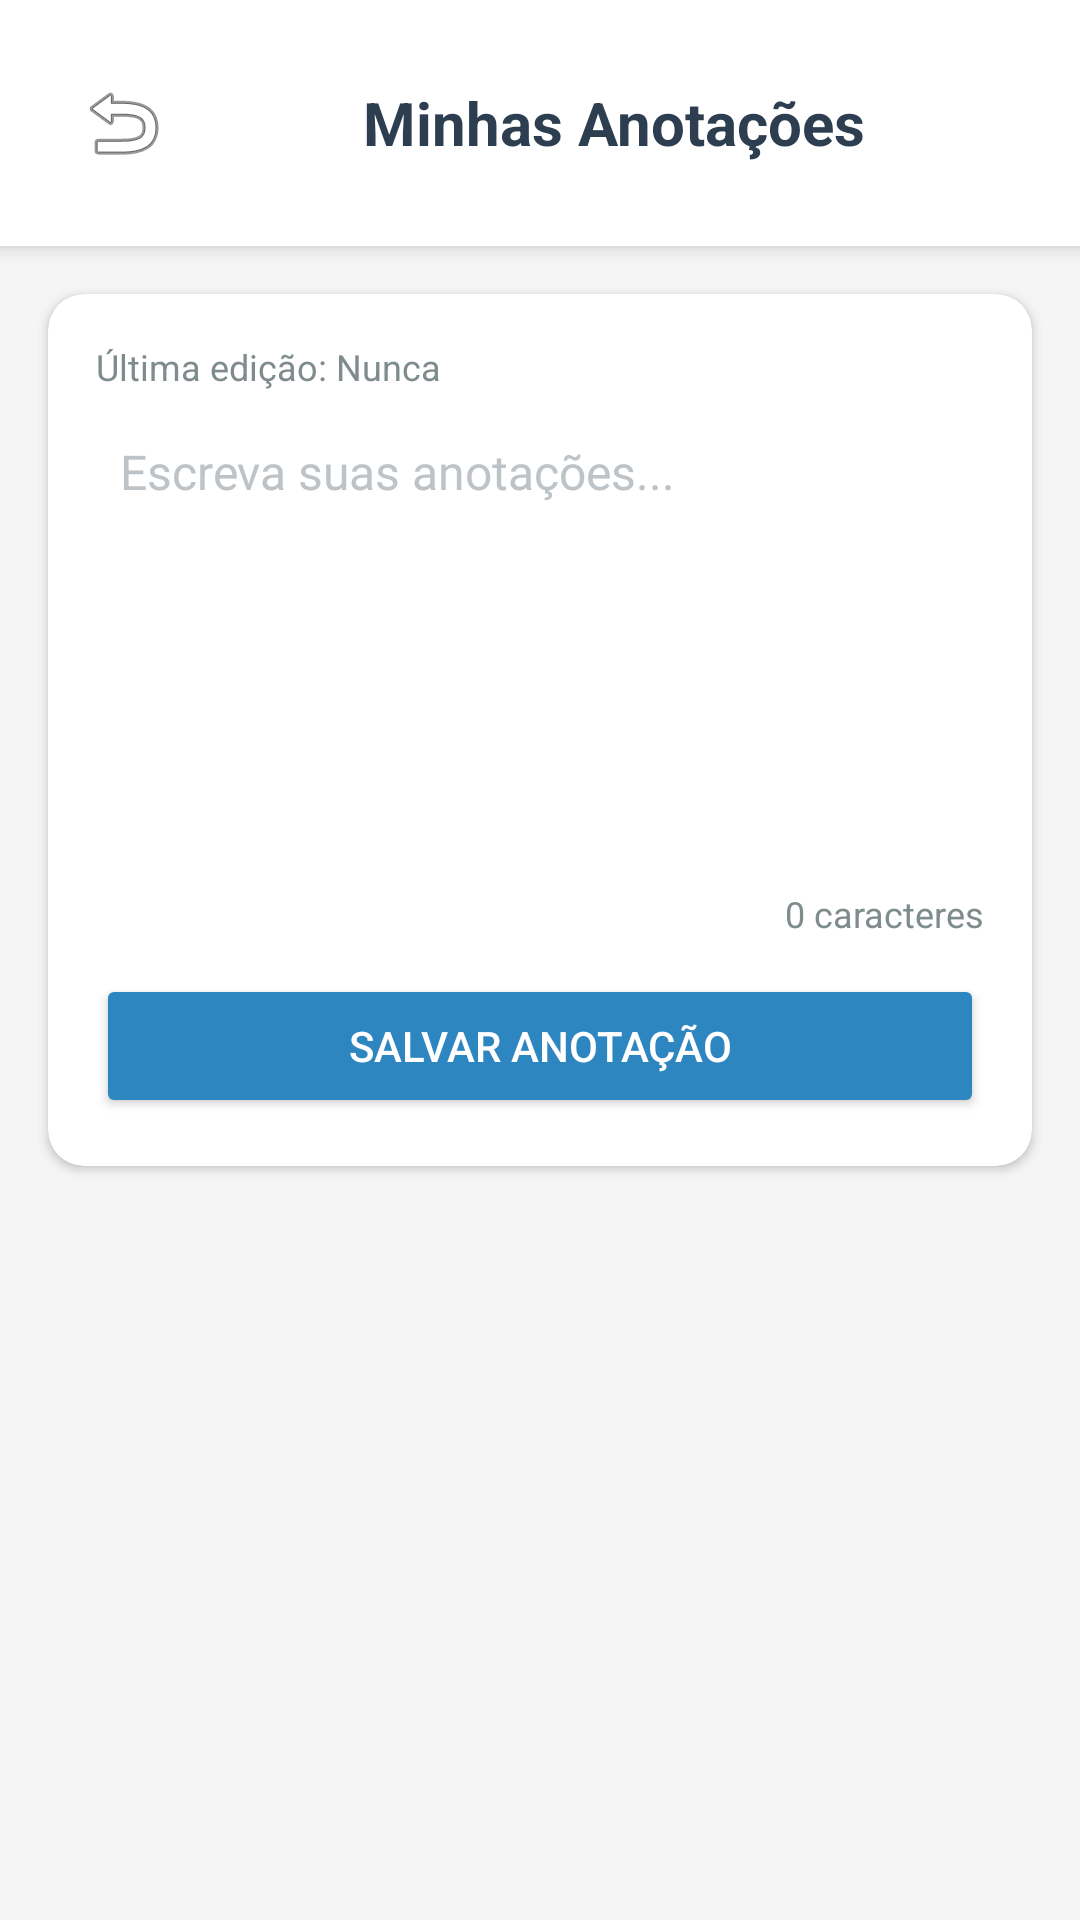

Icon bounding boxes for this 1080px x 1920px phone screenshot, format (x1, y1, x2, y2):
Voltar: (90, 92, 159, 155)
